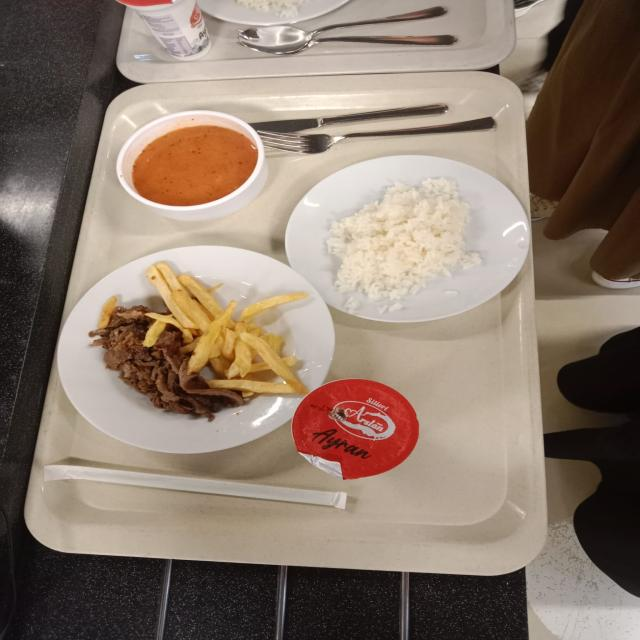ana_yemek: (55, 251, 335, 447), (284, 156, 518, 314)
corba: (115, 109, 266, 217)
